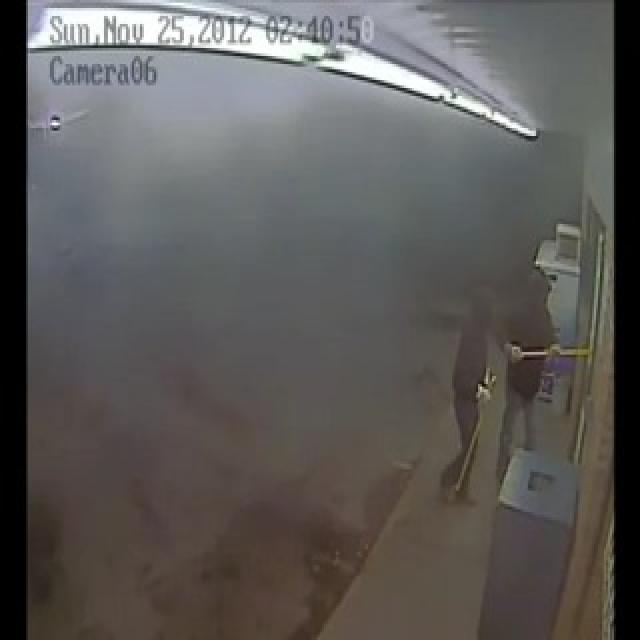thief: (497, 261, 558, 467), (446, 288, 492, 505)
